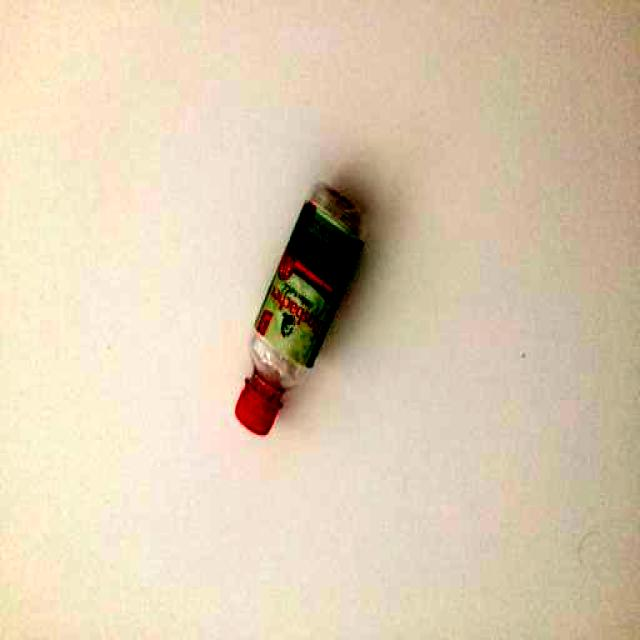plastic: (236, 183, 362, 434)
